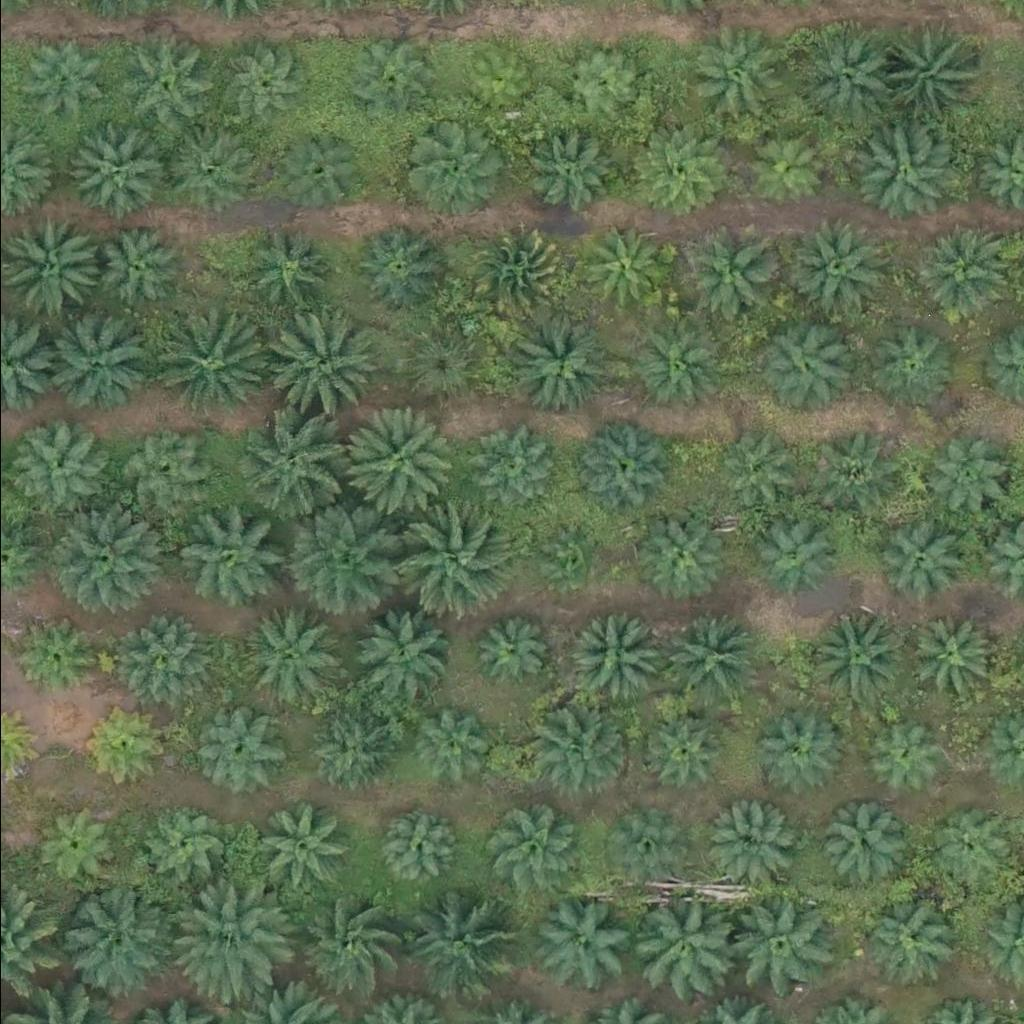Kelapa_Sawit: (259, 305, 373, 418), (621, 888, 735, 1001), (283, 500, 396, 613), (173, 501, 286, 614), (50, 502, 163, 615), (237, 411, 350, 524), (341, 407, 454, 520), (146, 301, 259, 414), (397, 888, 511, 1000), (392, 507, 506, 619), (63, 880, 176, 992), (178, 880, 291, 992), (291, 884, 404, 996), (529, 900, 630, 1000), (245, 799, 346, 899), (529, 694, 630, 794), (241, 603, 342, 703), (569, 421, 670, 521), (512, 313, 613, 413), (42, 310, 143, 410), (792, 30, 893, 130), (678, 26, 779, 126), (631, 123, 732, 223), (855, 126, 956, 226), (683, 222, 784, 322), (909, 225, 1010, 325), (760, 315, 861, 415), (627, 313, 728, 413), (801, 607, 902, 707), (661, 610, 762, 710), (851, 885, 952, 985), (726, 900, 827, 1000), (563, 608, 663, 708), (347, 602, 447, 702), (401, 117, 501, 217), (466, 226, 566, 326), (112, 38, 212, 138), (782, 217, 882, 317), (371, 801, 460, 889), (482, 809, 570, 897), (409, 703, 497, 791), (392, 315, 480, 403), (276, 127, 364, 215), (246, 220, 334, 308), (32, 798, 120, 886), (4, 422, 92, 510), (461, 424, 549, 512), (576, 220, 664, 308), (353, 225, 441, 313), (96, 225, 184, 313), (214, 41, 302, 129), (11, 33, 99, 121), (862, 321, 950, 409), (918, 435, 1006, 523), (804, 428, 892, 516), (874, 517, 962, 605), (745, 509, 833, 597), (555, 38, 643, 126), (304, 706, 392, 793), (134, 801, 222, 888), (124, 616, 212, 703), (193, 703, 281, 790), (115, 428, 203, 515), (525, 120, 613, 207), (167, 126, 255, 213), (343, 34, 431, 121), (66, 129, 154, 216), (869, 29, 957, 116), (442, 30, 530, 117), (745, 128, 833, 215), (709, 426, 797, 513), (629, 516, 717, 603), (901, 614, 989, 701), (637, 709, 725, 796), (755, 709, 843, 796), (859, 716, 947, 803), (919, 803, 1007, 890), (810, 802, 898, 889), (702, 799, 790, 886), (471, 613, 547, 688), (604, 813, 680, 888), (21, 622, 96, 697), (85, 712, 160, 787), (540, 524, 603, 586)
